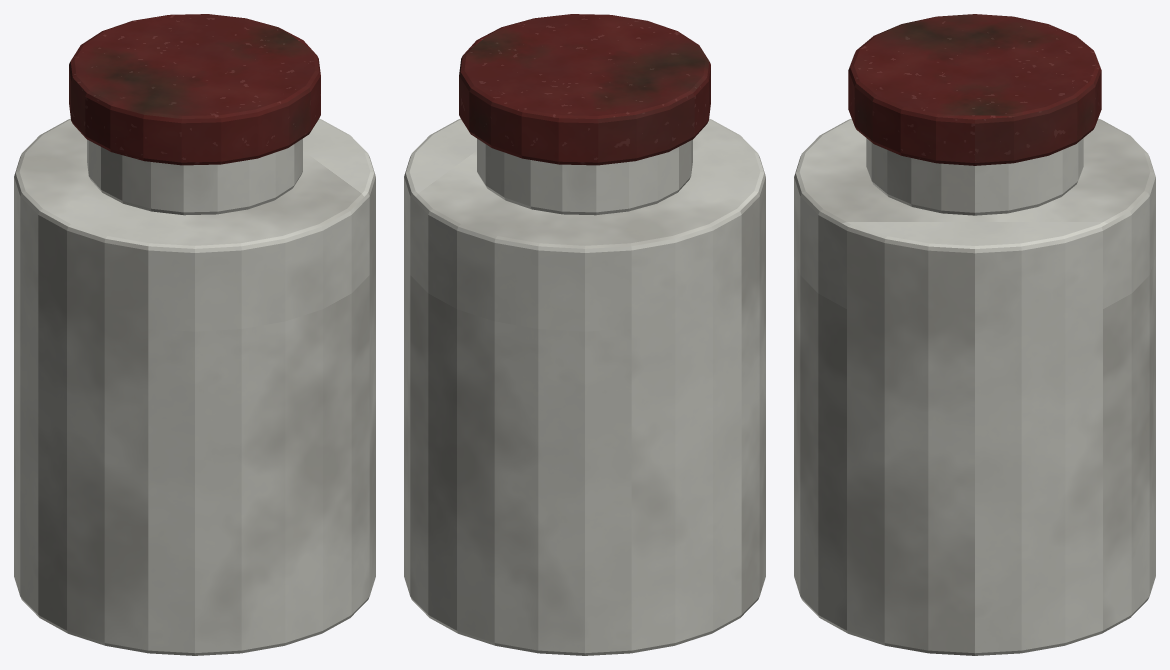
Rendered from W02_sweet_jars_v1.glb.
3 views of the same model, side by side, from view 1: azimuth 30°, elevation 25°; view 2: azimuth 150°, elevation 25°; view 3: azimuth 270°, elevation 25° (orthographic).
Parts seen in each view (by area): view 1: W02_sweet_jars_v1; view 2: W02_sweet_jars_v1; view 3: W02_sweet_jars_v1.
Boxes of the visible parts, x1=… form: W02_sweet_jars_v1: x1=14, y1=14, x2=375, y2=655; W02_sweet_jars_v1: x1=404, y1=14, x2=765, y2=655; W02_sweet_jars_v1: x1=794, y1=14, x2=1155, y2=655.
Bounding box in the file's own units: 0.1905 × 0.3 × 0.1905.
3 materials, 3 textured.
